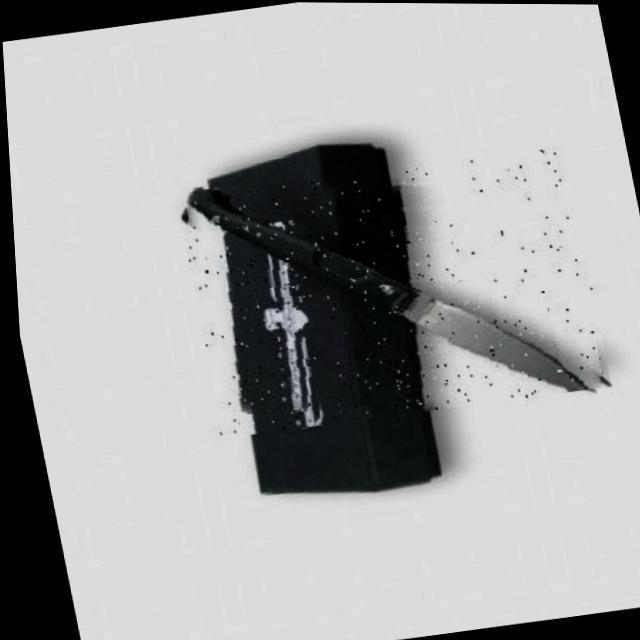knife: (166, 143, 609, 440)
